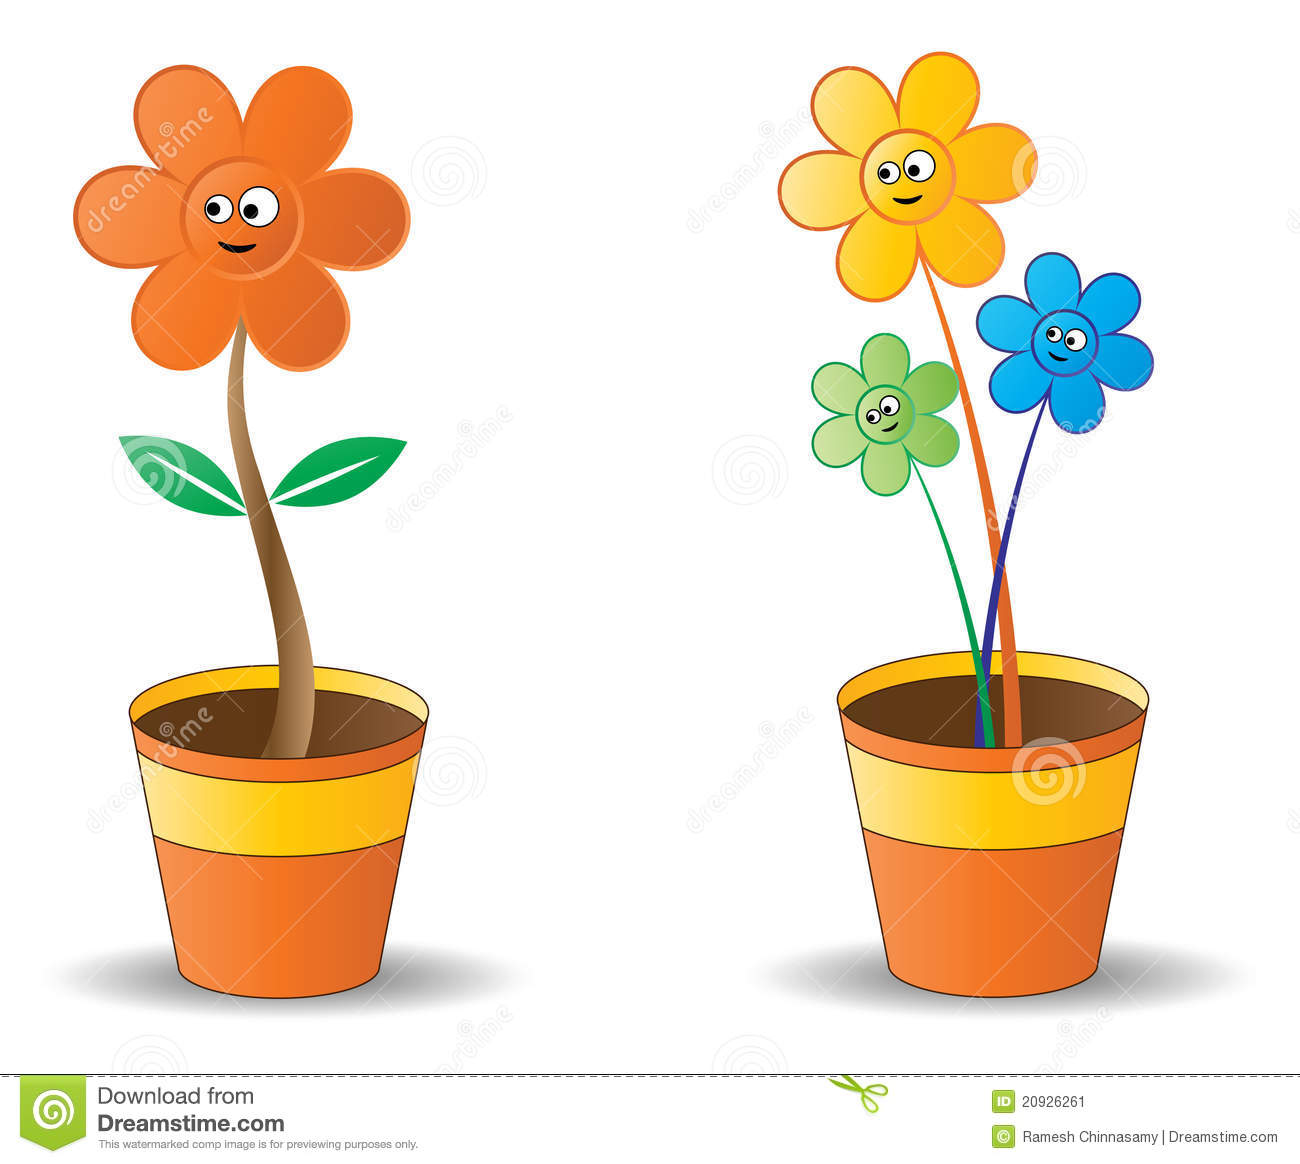flowerpot: (838, 645, 1152, 1002), (131, 662, 429, 990)
